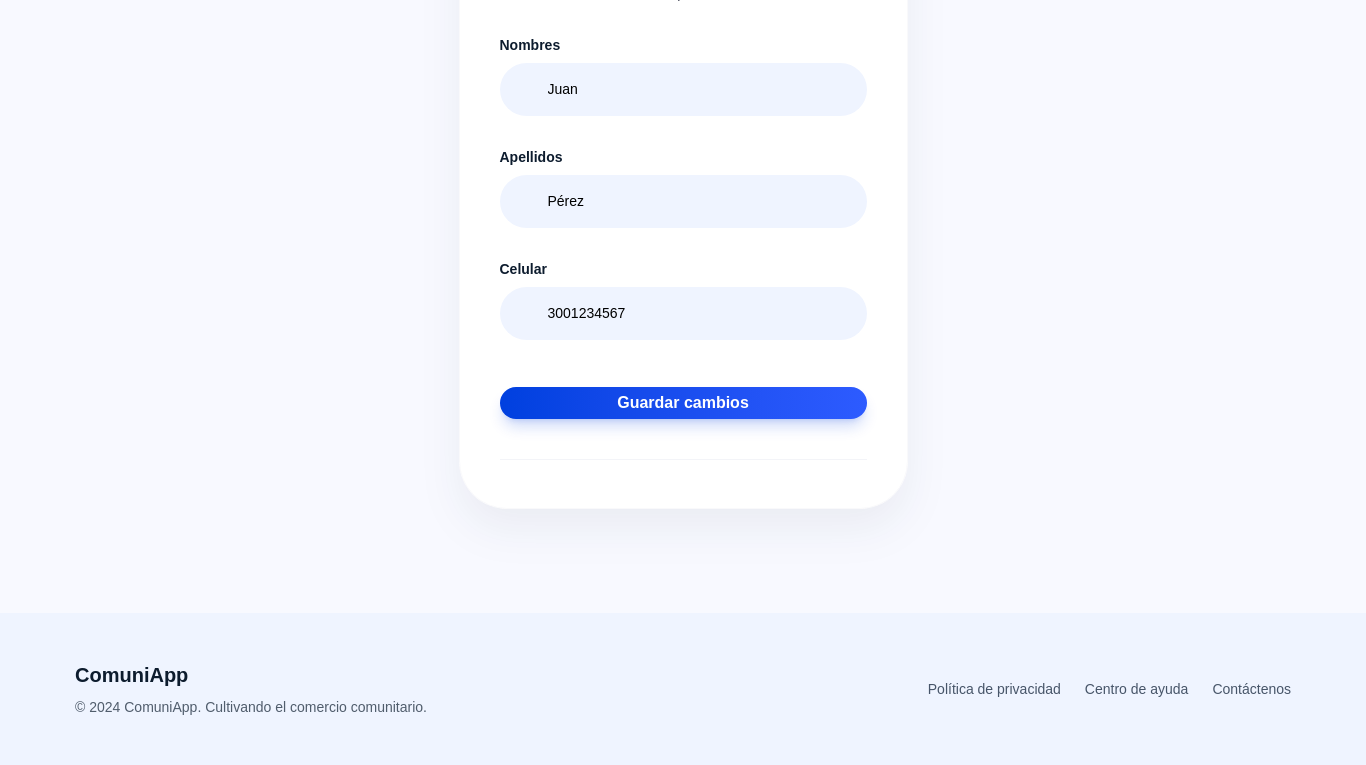
Test: EditProfile › muestra errores de campos
This screenshot has width=1366, height=765.
(page scrolled)
Click the button named "guardar cambios": (683, 403) [500,387,866,419]
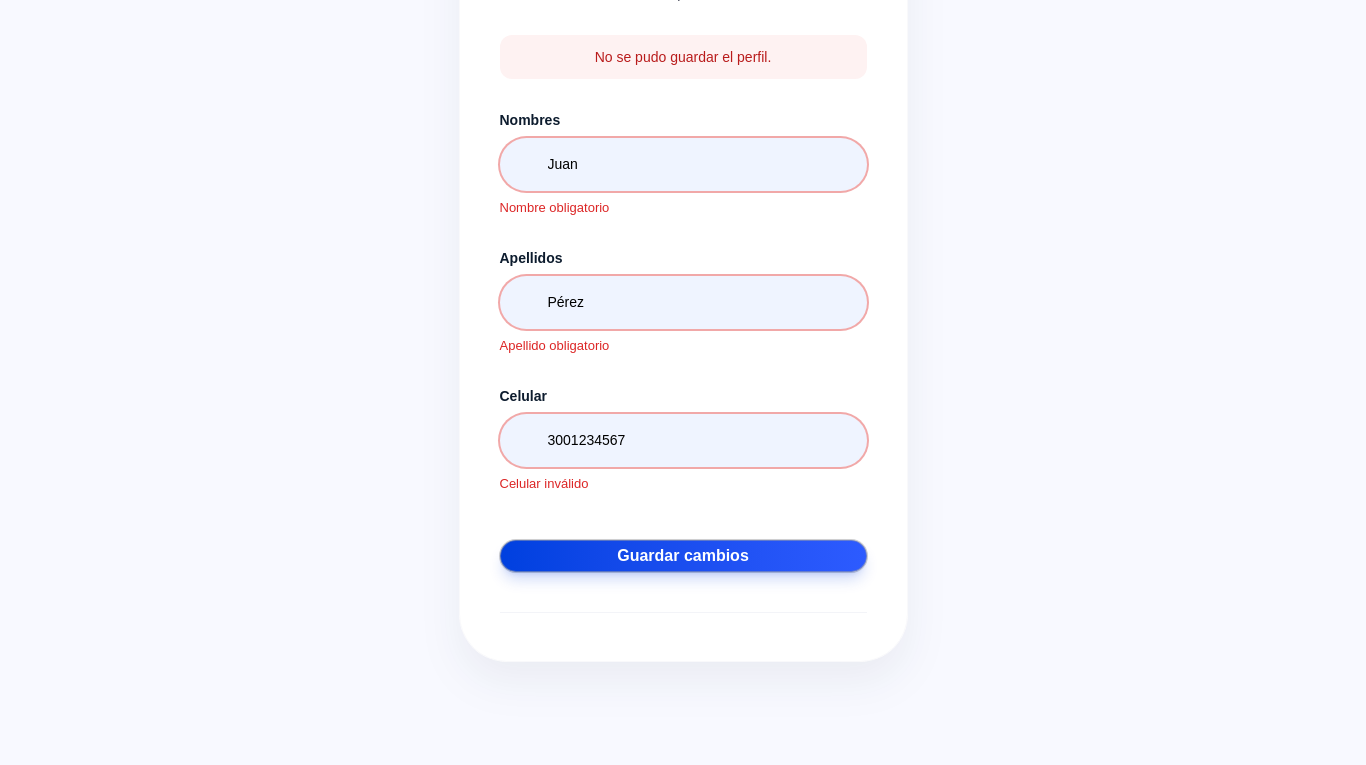
Now the text "Nombre obligatorio" is shown, box [500,199,609,217]
Now the text "Apellido obligatorio" is shown, box [500,337,609,355]
Now the text "Celular inválido" is shown, box [500,475,588,493]
